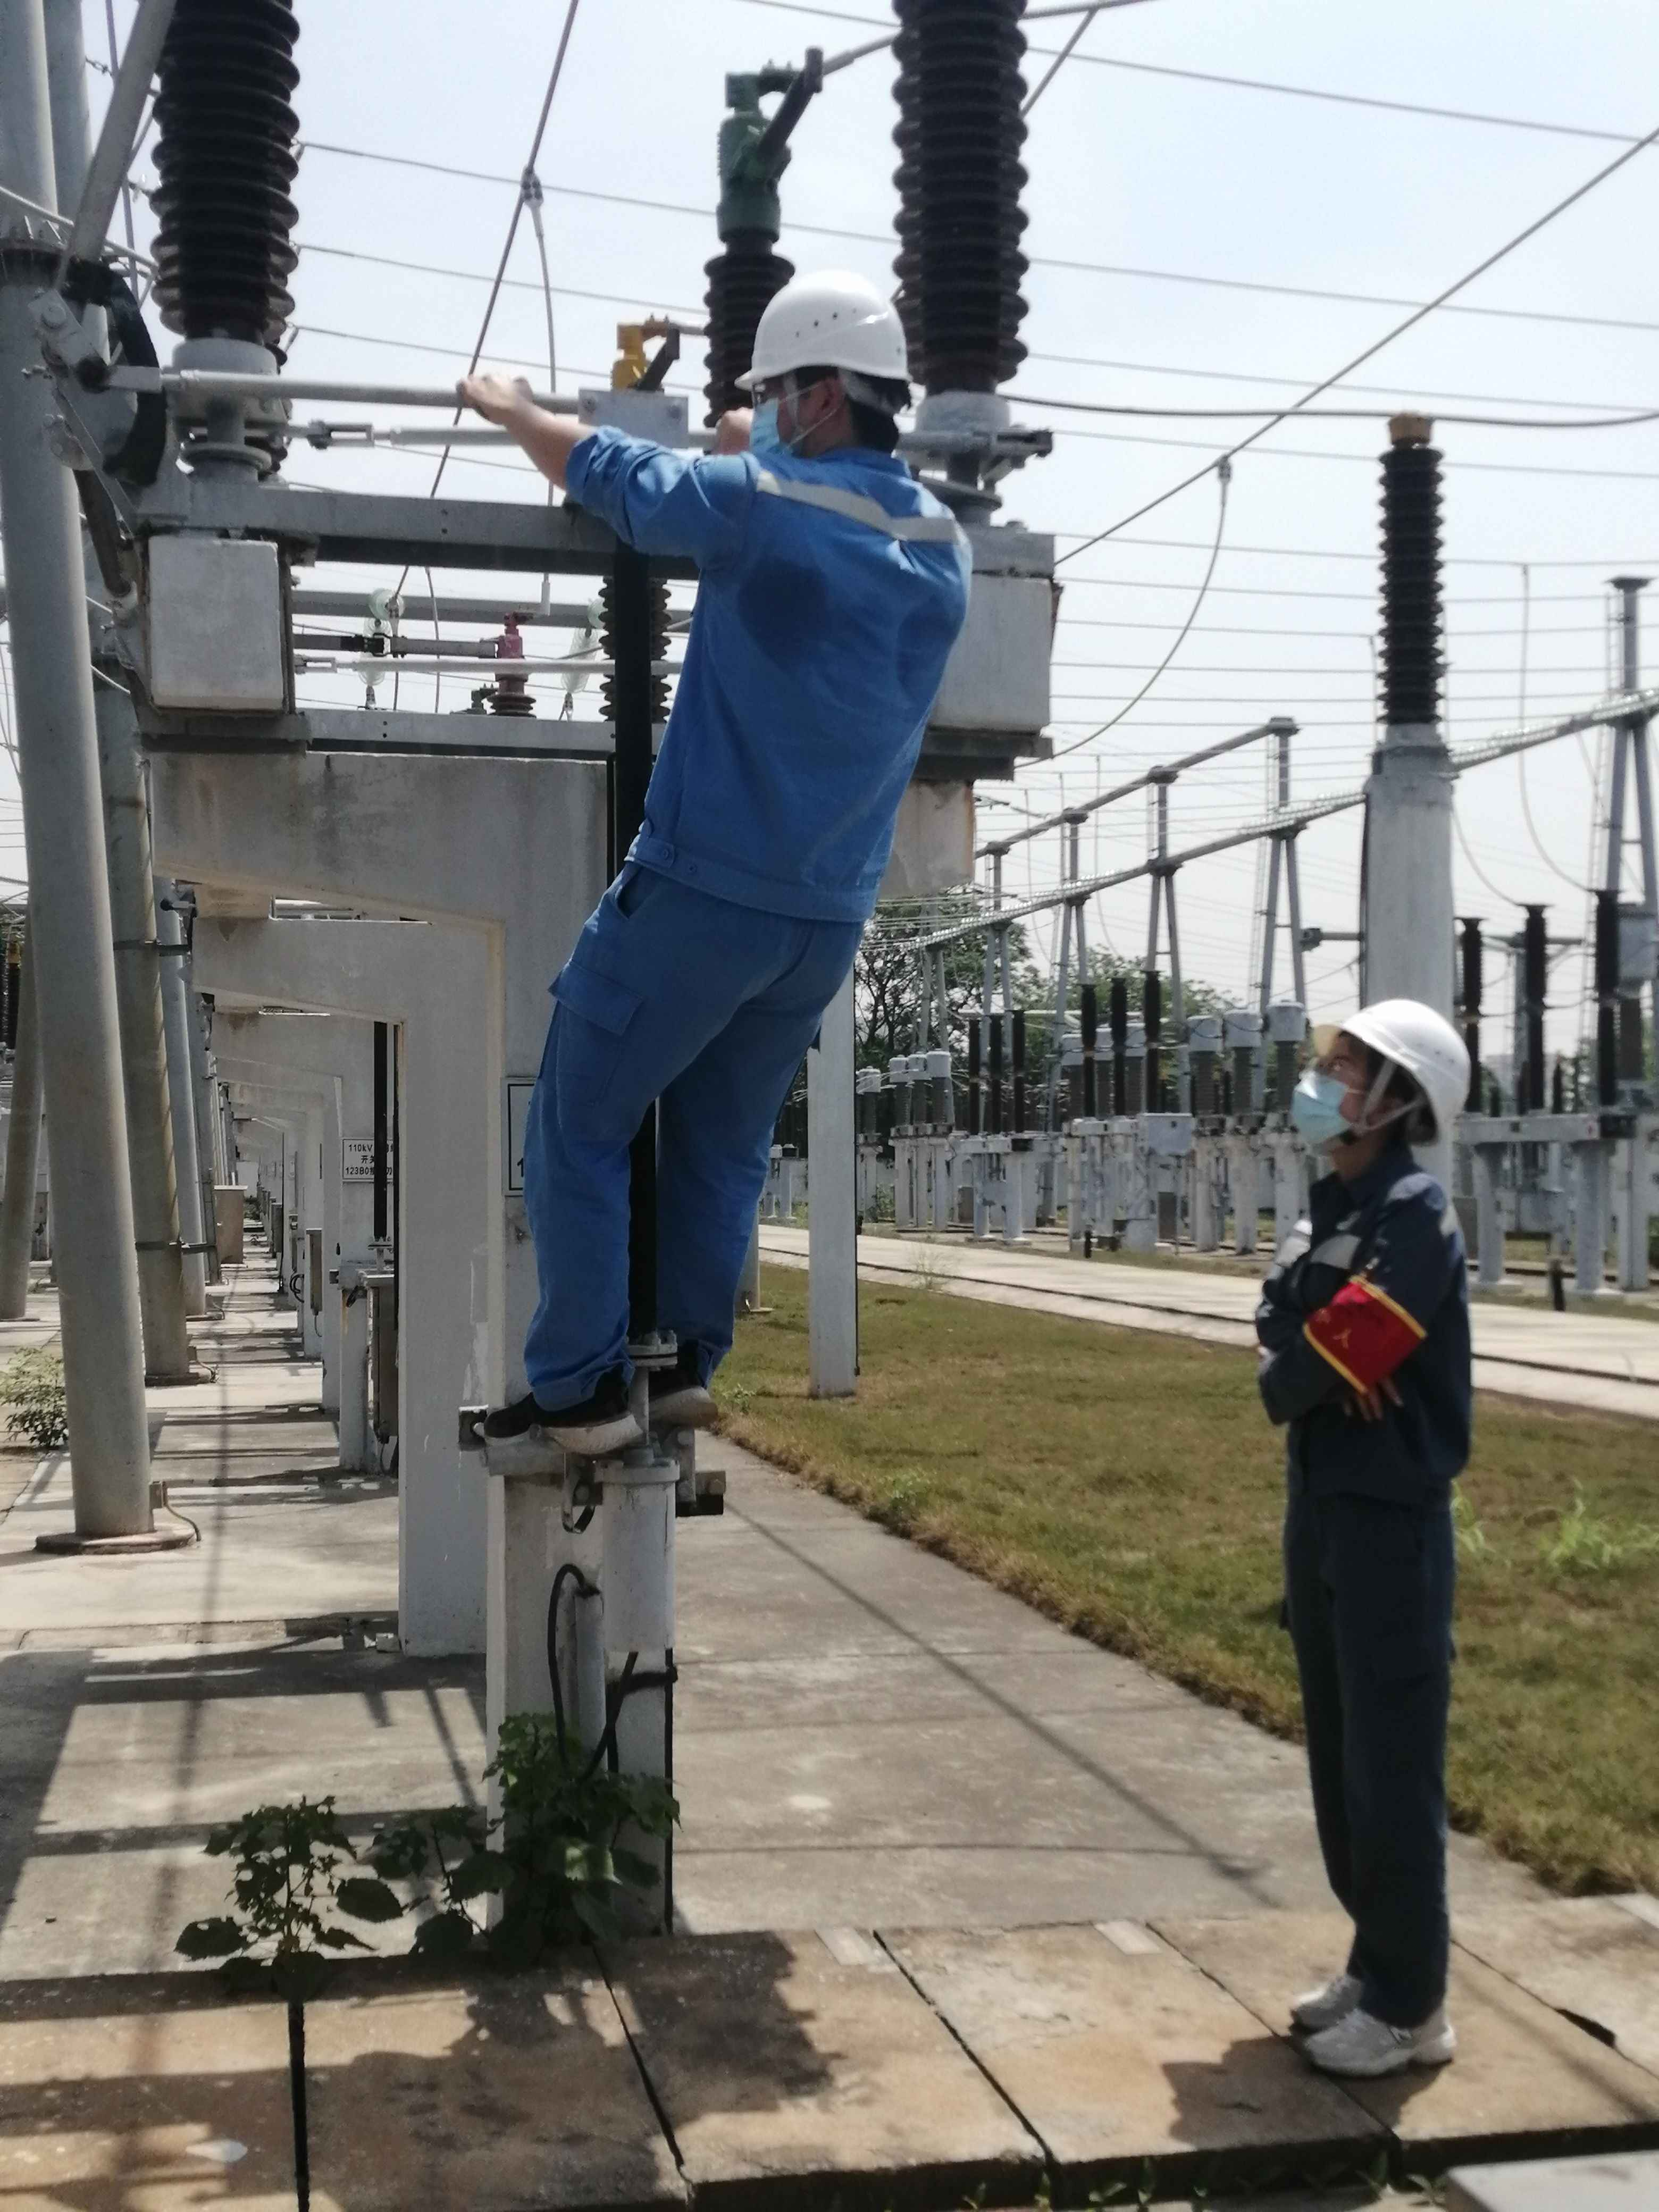downsuit: (509, 937, 873, 1393), (1284, 1503, 1462, 2031)
upsuit: (584, 441, 974, 913), (1260, 1160, 1474, 1500)
wrongtop: (453, 362, 626, 512)
